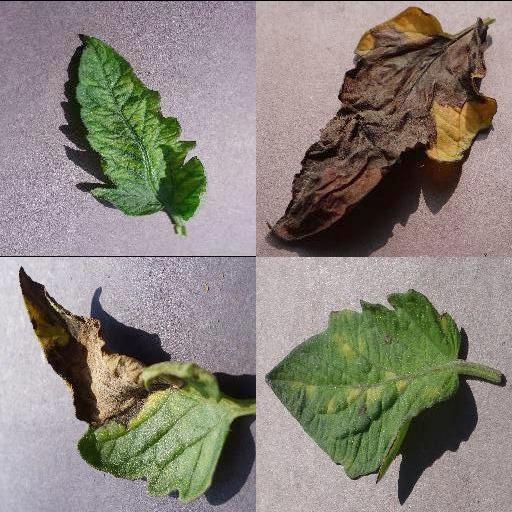Late Blight: (264, 4, 498, 240), (17, 262, 231, 502)
Leaf Mold: (265, 289, 461, 487)
Mosaic Virus: (76, 34, 206, 220)
